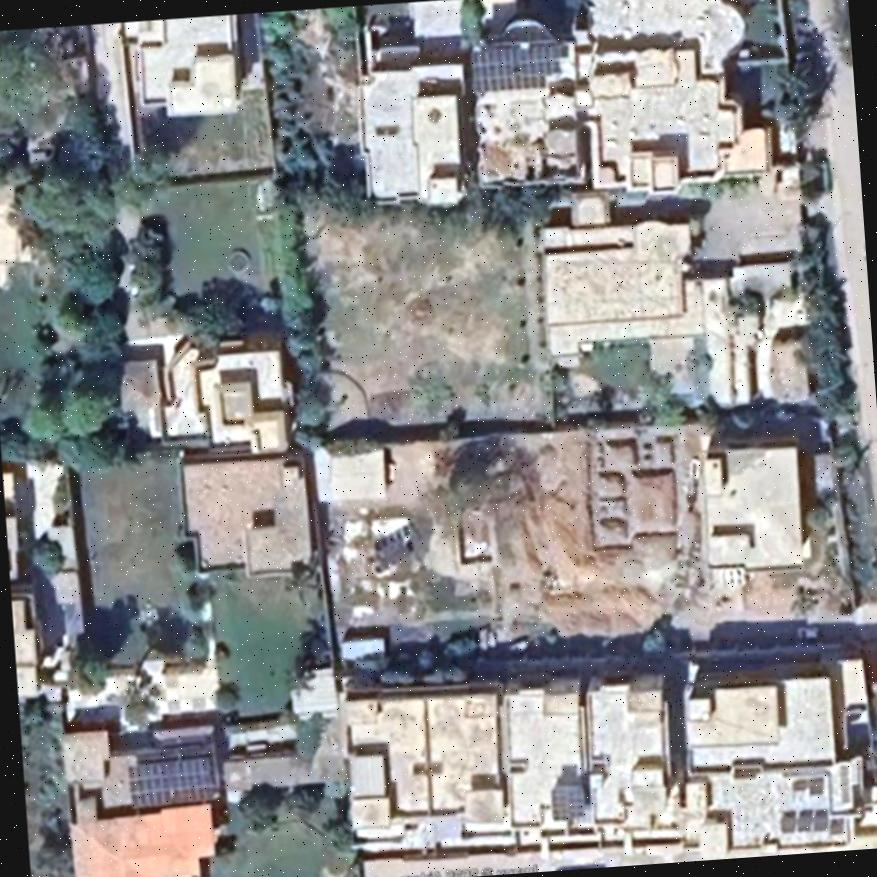Solarpanel: (126, 757, 211, 807), (472, 46, 561, 90), (551, 785, 583, 818)
